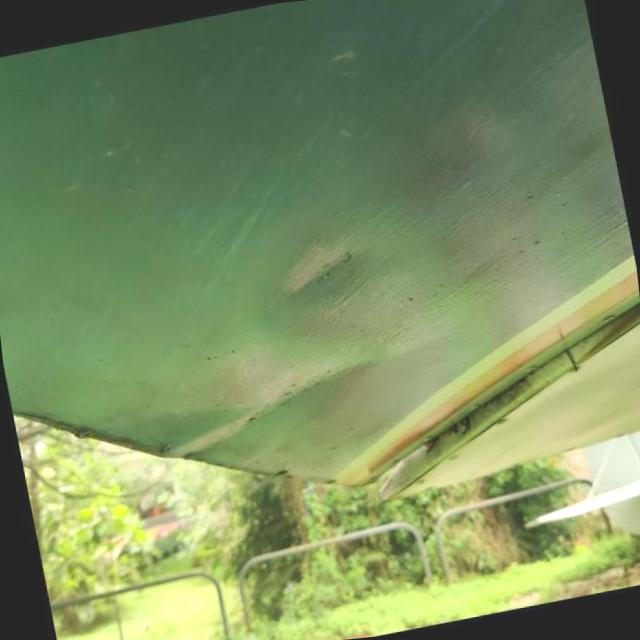dent: (107, 302, 425, 500), (274, 233, 358, 297)
